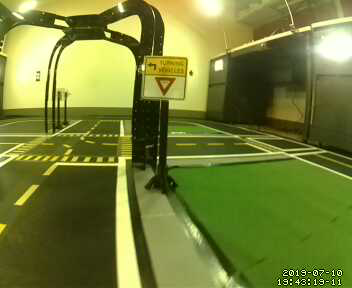Turn Yield: (141, 55, 185, 100)
